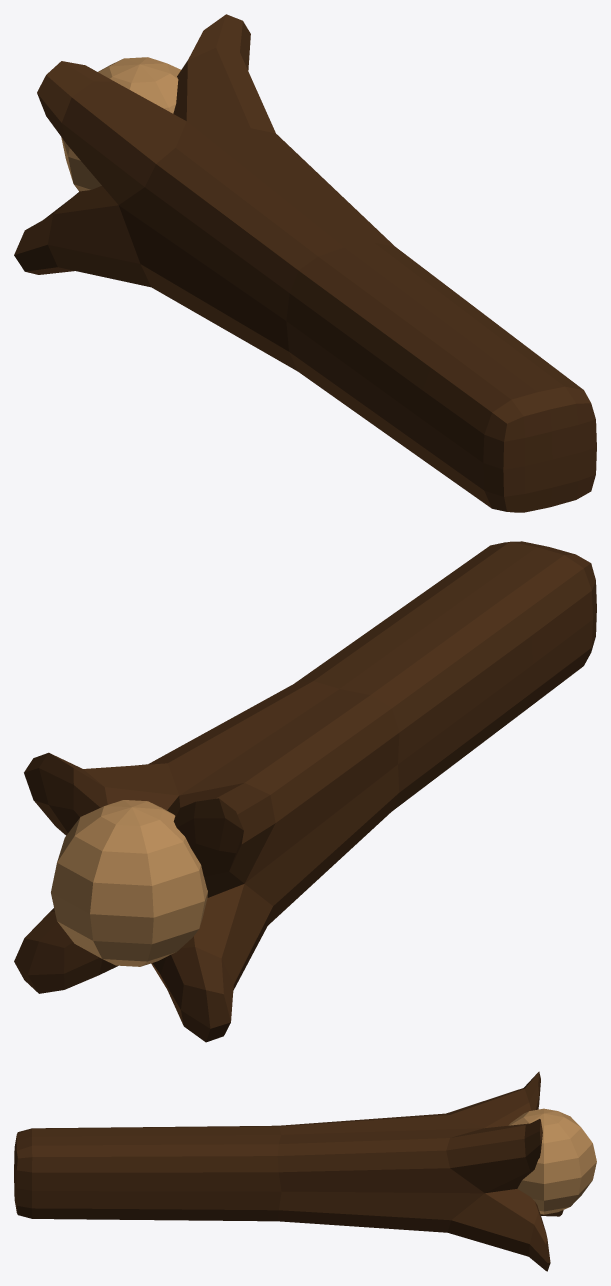
Rendered from Cengkeh.fbx.
3 renders of one model, top to bottom at view 1: azimuth 30°, elevation 25°; view 2: azimuth 150°, elevation 25°; view 3: azimuth 270°, elevation 25°, orthographic. The views are drawn at different scales.
Parts seen in each view (by area): view 1: Cengkeh; view 2: Cengkeh; view 3: Cengkeh.
Boxes of the visible parts, <box> form: Cengkeh: <box>14,14,596,512</box>; Cengkeh: <box>14,541,596,1042</box>; Cengkeh: <box>14,1071,596,1271</box>.
Bounding box in the file's own units: 0.4804 × 0.479 × 1.68.
